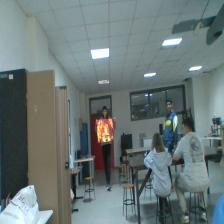fire-poster: (97, 119, 114, 142)
